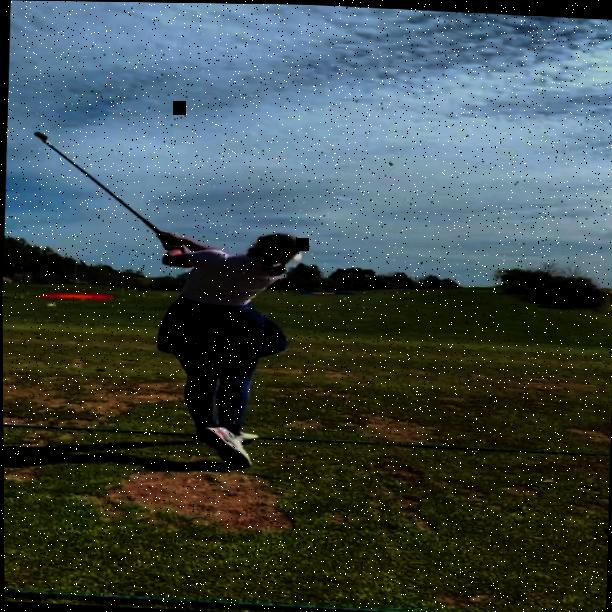ClubHead: (35, 130, 53, 143)
